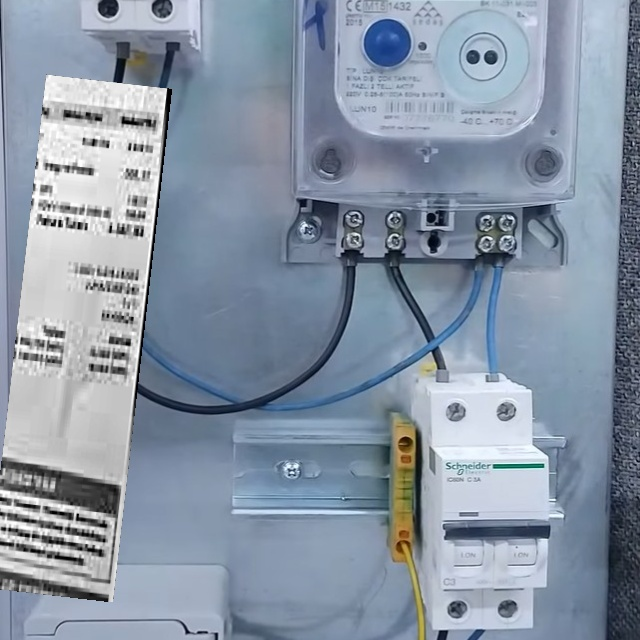electricity-bill: (0, 74, 172, 602)
